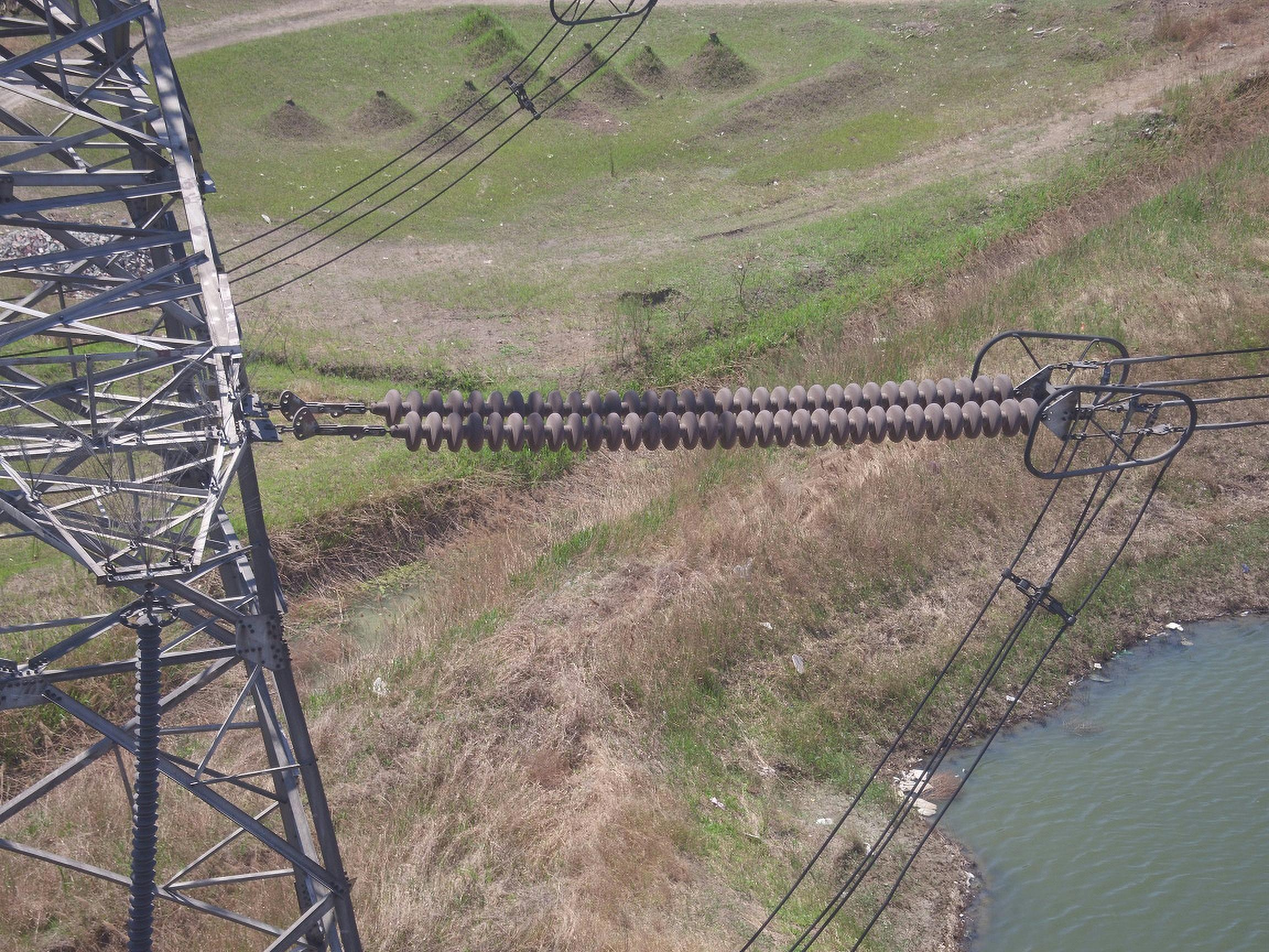insulator: (379, 370, 1044, 456), (120, 624, 166, 952)
